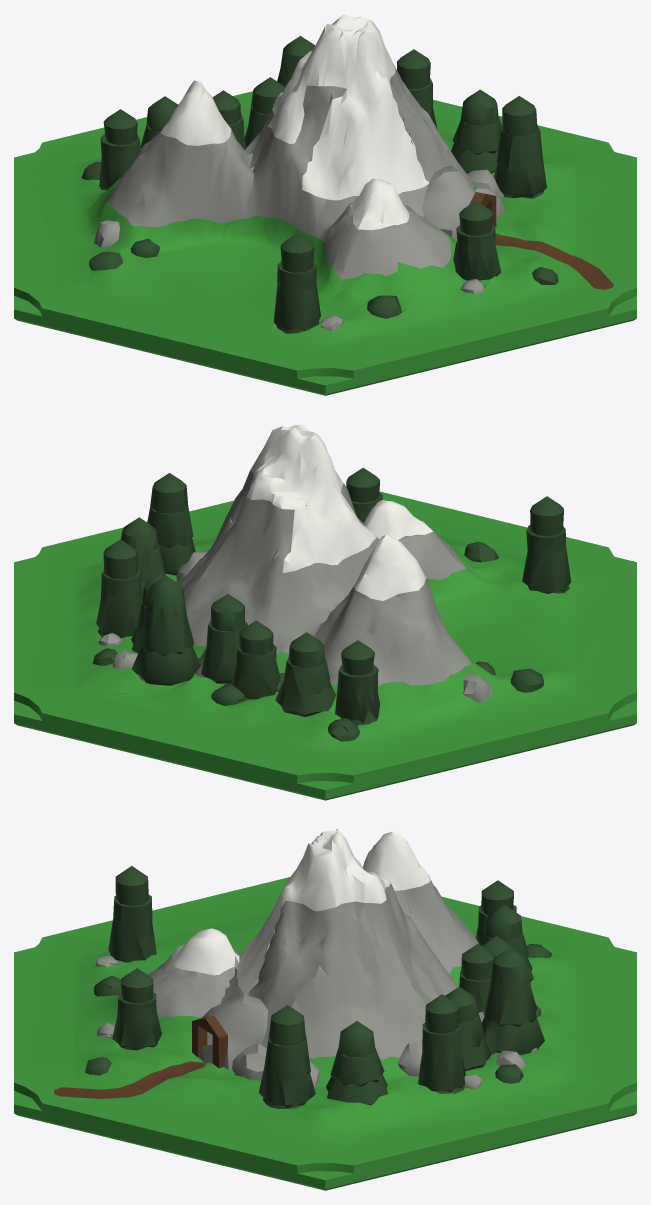
The model's file is gebirge_2.glb.
The picture shows the model from 3 angles, top to bottom: view 1: azimuth 30°, elevation 25°; view 2: azimuth 150°, elevation 25°; view 3: azimuth 270°, elevation 25°; orthographic projection.
Visible parts, largest first — view 1: gebirge_2; view 2: gebirge_2; view 3: gebirge_2.
Boxes of the visible parts, bbox=[...] form: gebirge_2: bbox=[14, 14, 636, 395]; gebirge_2: bbox=[14, 424, 636, 800]; gebirge_2: bbox=[14, 829, 636, 1190].
Bounding box in the file's own units: 65.24 × 22.13 × 56.5.
